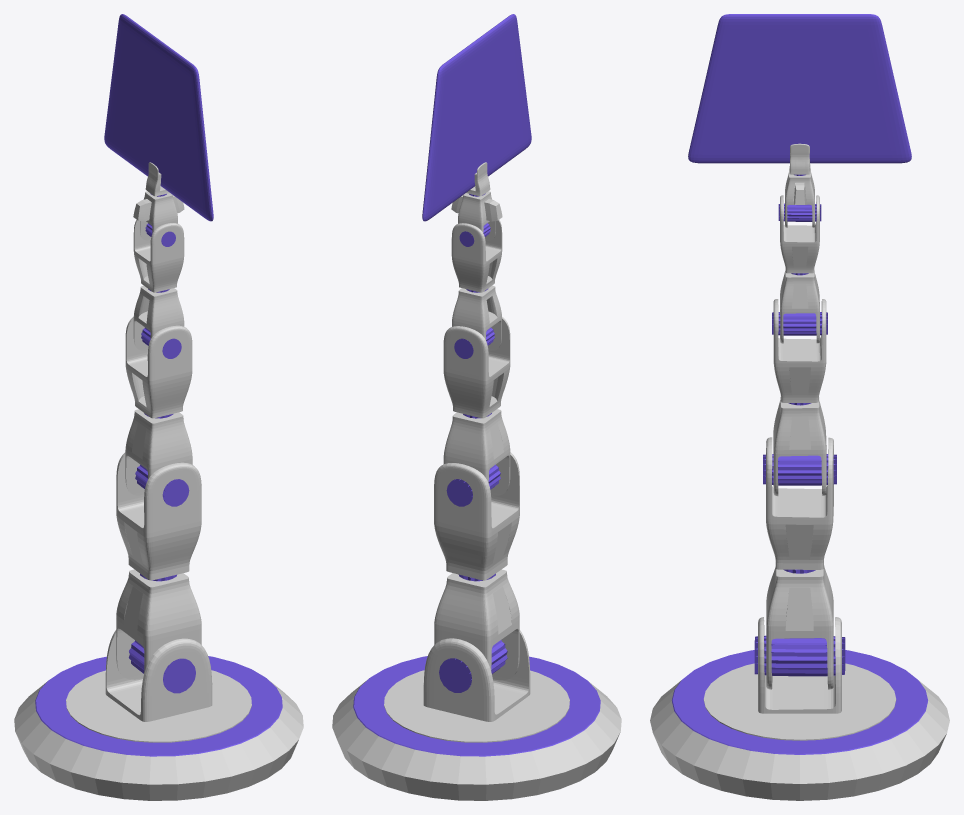
Rendered from Robot3.glb.
3 renders of one model, left to right at view 1: azimuth 30°, elevation 25°; view 2: azimuth 150°, elevation 25°; view 3: azimuth 270°, elevation 25°, orthographic. The views are drawn at different scales.
Visible parts, largest first — view 1: Robot-Base, Plate, Robot-Base.001, Arm1-B, Arm1-A, Arm-Base, Arm2-B, Arm2-A, Arm3-B, Arm3-A, Arm1-A-Pin, Arm4-A (+1 smaller); view 2: Robot-Base, Plate, Robot-Base.001, Arm1-B, Arm1-A, Arm-Base, Arm2-B, Arm2-A, Arm3-B, Arm3-A, Arm1-A-Pin, Arm4-A (+1 smaller); view 3: Plate, Robot-Base, Robot-Base.001, Arm1-B, Arm1-A, Arm-Base, Arm2-B, Arm2-A, Arm1-A-Pin, Arm3-B, Arm3-A, Arm2-A-Pin (+4 smaller).
Boxes of the visible parts, x1,y1,x2,y2 form: Robot-Base: [14, 670, 303, 800]; Plate: [104, 14, 213, 221]; Robot-Base.001: [35, 656, 282, 756]; Arm1-B: [116, 452, 201, 580]; Arm1-A: [116, 569, 201, 679]; Arm-Base: [105, 630, 212, 721]; Arm2-B: [125, 317, 192, 418]; Arm2-A: [125, 409, 192, 495]; Arm3-B: [133, 220, 184, 292]; Arm3-A: [133, 285, 184, 350]; Arm1-A-Pin: [128, 640, 195, 693]; Arm4-A: [140, 191, 177, 240]; Robot-Base: [332, 670, 621, 800]; Plate: [422, 14, 531, 221]; Robot-Base.001: [353, 656, 600, 756]; Arm1-B: [434, 452, 519, 580]; Arm1-A: [434, 569, 519, 680]; Arm-Base: [423, 630, 530, 721]; Arm2-B: [443, 317, 510, 418]; Arm2-A: [443, 409, 510, 495]; Arm3-B: [451, 220, 502, 292]; Arm3-A: [452, 285, 501, 350]; Arm1-A-Pin: [439, 640, 507, 692]; Arm4-A: [458, 191, 495, 240]; Plate: [688, 14, 911, 163]; Robot-Base: [650, 663, 949, 800]; Robot-Base.001: [672, 650, 927, 754]; Arm1-B: [766, 437, 833, 569]; Arm1-A: [766, 565, 833, 689]; Arm-Base: [758, 617, 841, 713]; Arm2-B: [773, 299, 826, 402]; Arm2-A: [773, 395, 826, 496]; Arm1-A-Pin: [754, 635, 845, 676]; Arm3-B: [780, 195, 819, 273]; Arm3-A: [780, 267, 819, 343]; Arm2-A-Pin: [763, 454, 836, 485].
Bounding box in the file's own units: 2.61 × 6.99 × 2.61.
